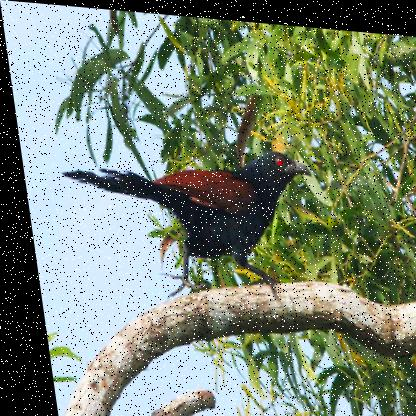Burung: (51, 131, 322, 305)
